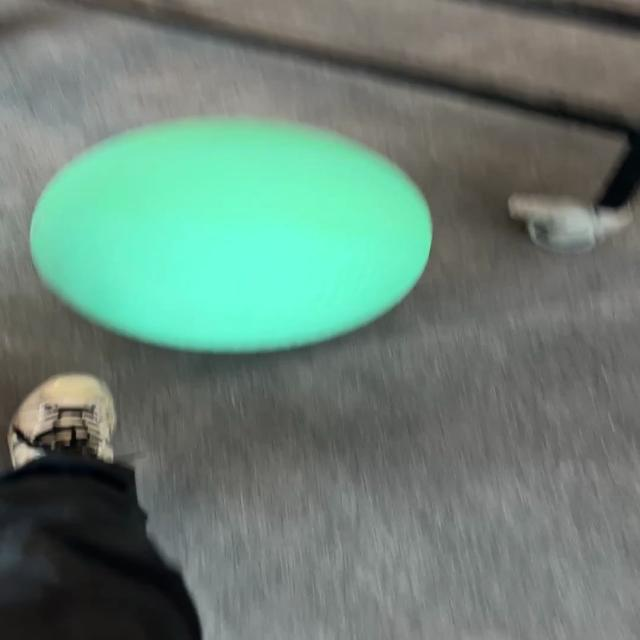Algae: (27, 114, 434, 355)
